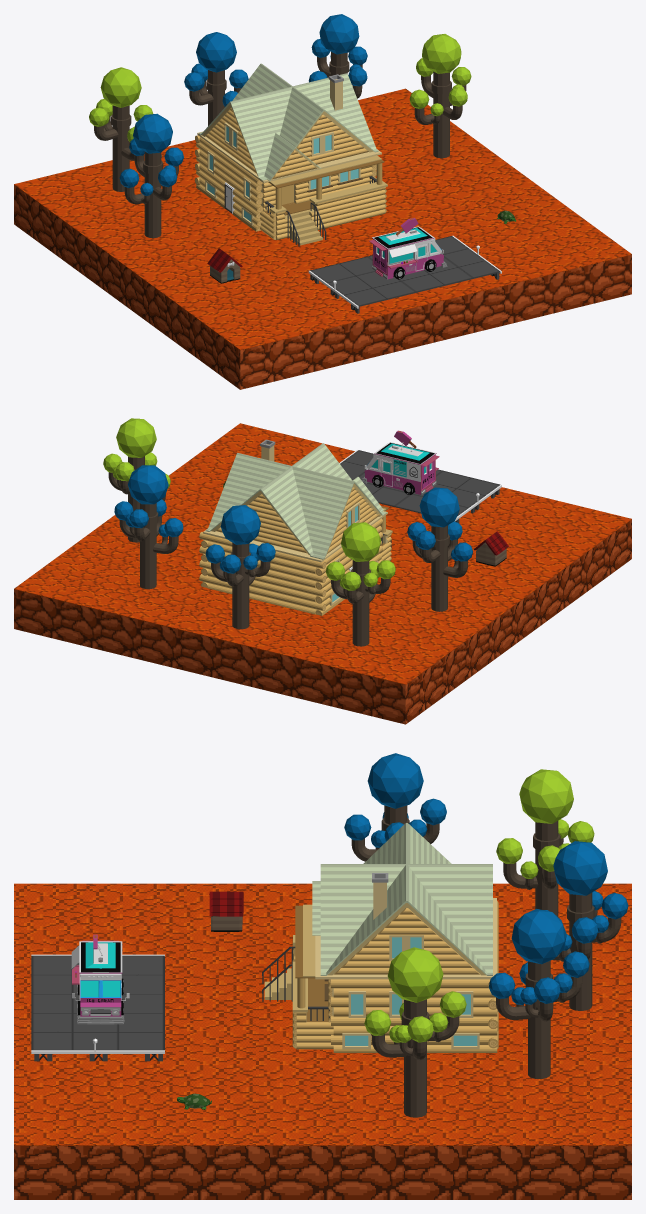
3 renders of one model, top to bottom at view 1: azimuth 30°, elevation 25°; view 2: azimuth 150°, elevation 25°; view 3: azimuth 270°, elevation 25°, orthographic. The views are drawn at different scales.
Parts seen in each view (by area): view 1: Cube.001, Cube.1516, VEHICLES_ICE_CREAM_TRUCK, OBJRANDOM_DOGHOUSE; view 2: Cube.001, Cube.1516, VEHICLES_ICE_CREAM_TRUCK, OBJRANDOM_DOGHOUSE; view 3: Cube.001, Cube.1516, VEHICLES_ICE_CREAM_TRUCK, OBJRANDOM_DOGHOUSE.
Boxes of the visible parts, box(x1,y1,x2,y2) form: Cube.001: box(14, 14, 631, 389); Cube.1516: box(195, 63, 387, 246); VEHICLES_ICE_CREAM_TRUCK: box(369, 218, 447, 279); OBJRANDOM_DOGHOUSE: box(207, 248, 242, 283); Cube.001: box(14, 418, 631, 724); Cube.1516: box(199, 439, 392, 615); VEHICLES_ICE_CREAM_TRUCK: box(361, 430, 439, 494); OBJRANDOM_DOGHOUSE: box(473, 531, 508, 566); Cube.001: box(14, 753, 631, 1199); Cube.1516: box(262, 823, 498, 1052); VEHICLES_ICE_CREAM_TRUCK: box(71, 934, 129, 1024); OBJRANDOM_DOGHOUSE: box(209, 891, 243, 931).
Size of the model in its own units: 4000 by 1667 by 4000.
50 materials, 5 textured.
